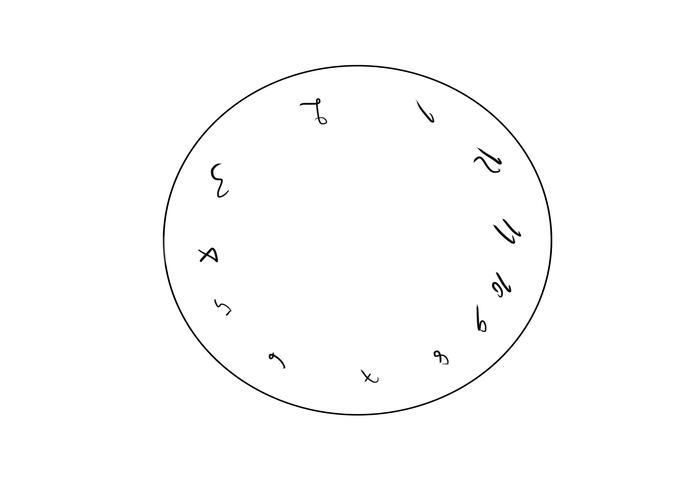eight: (430, 342, 455, 366)
eleven: (496, 214, 531, 255)
five: (211, 292, 236, 324)
four: (193, 238, 227, 266)
nine: (467, 296, 491, 332)
one: (417, 97, 439, 125)
seven: (355, 357, 386, 391)
six: (259, 341, 297, 379)
ten: (487, 274, 522, 306)
three: (205, 158, 236, 206)
twelve: (465, 141, 507, 177)
two: (300, 98, 336, 128)
